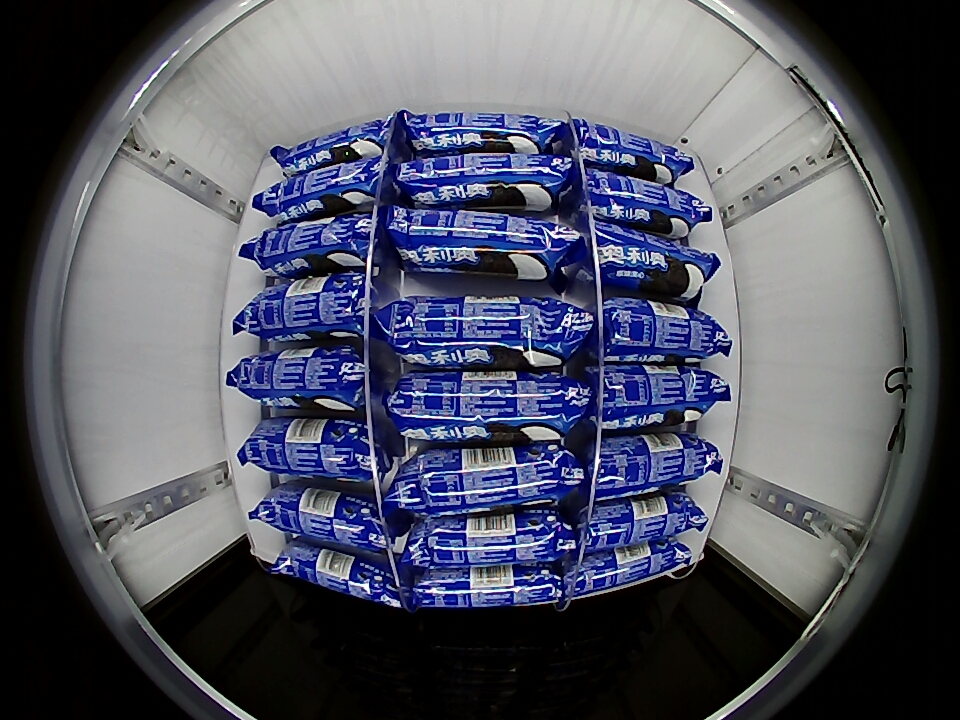aoliao: (382, 368, 591, 444), (378, 291, 574, 369), (385, 205, 577, 278), (388, 443, 580, 516), (395, 151, 572, 207), (402, 511, 572, 568), (591, 218, 716, 293), (585, 435, 727, 499), (263, 487, 388, 558), (240, 344, 367, 413), (246, 272, 367, 343), (255, 212, 386, 275), (603, 296, 724, 364), (255, 416, 376, 483), (571, 117, 692, 183), (398, 109, 568, 155), (584, 168, 699, 235), (285, 546, 404, 610), (266, 155, 385, 218), (600, 364, 715, 429), (409, 564, 564, 611), (564, 543, 688, 601), (275, 116, 396, 175), (582, 496, 692, 554)
